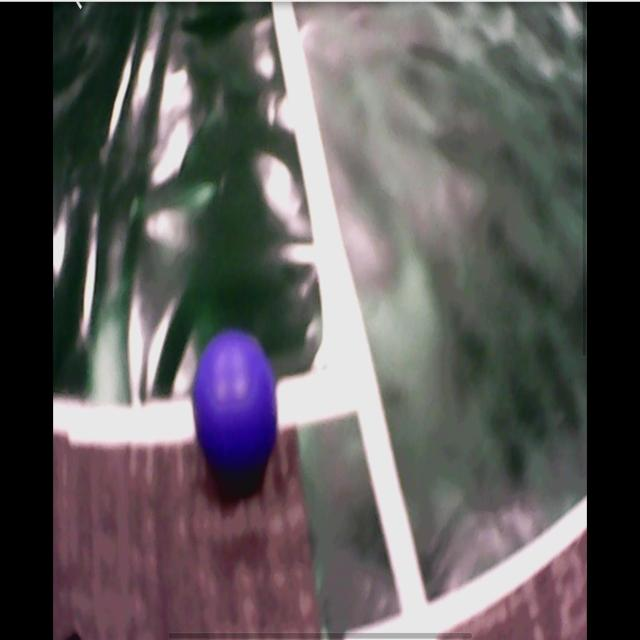ball: (193, 334, 280, 473)
